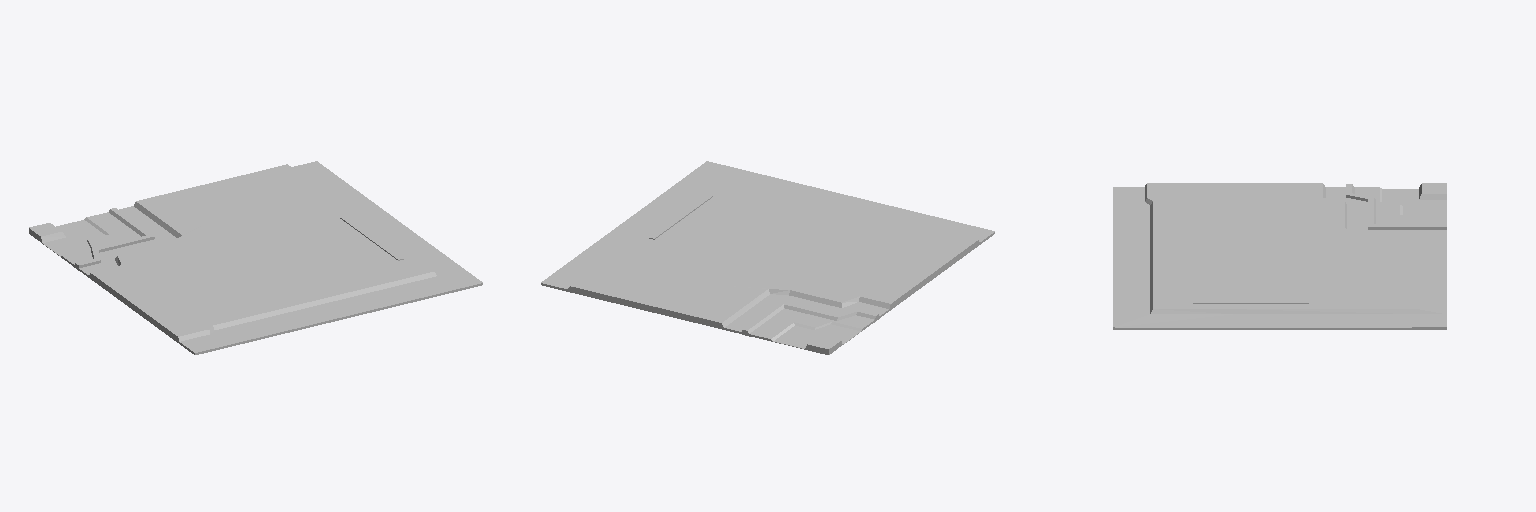
The model's file is FloorTile_InnerCorner.obj.
The picture shows the model from 3 angles: view 1: azimuth 30°, elevation 25°; view 2: azimuth 150°, elevation 25°; view 3: azimuth 270°, elevation 25°; orthographic projection.
Visible parts, largest first — view 1: FloorTile_InnerCorner_Plane.228; view 2: FloorTile_InnerCorner_Plane.228; view 3: FloorTile_InnerCorner_Plane.228.
Boxes of the visible parts, x1=… form: FloorTile_InnerCorner_Plane.228: x1=29, y1=161, x2=482, y2=354; FloorTile_InnerCorner_Plane.228: x1=541, y1=161, x2=994, y2=354; FloorTile_InnerCorner_Plane.228: x1=1113, y1=183, x2=1446, y2=329.
Size of the model in its own units: 2 by 0.051 by 2.